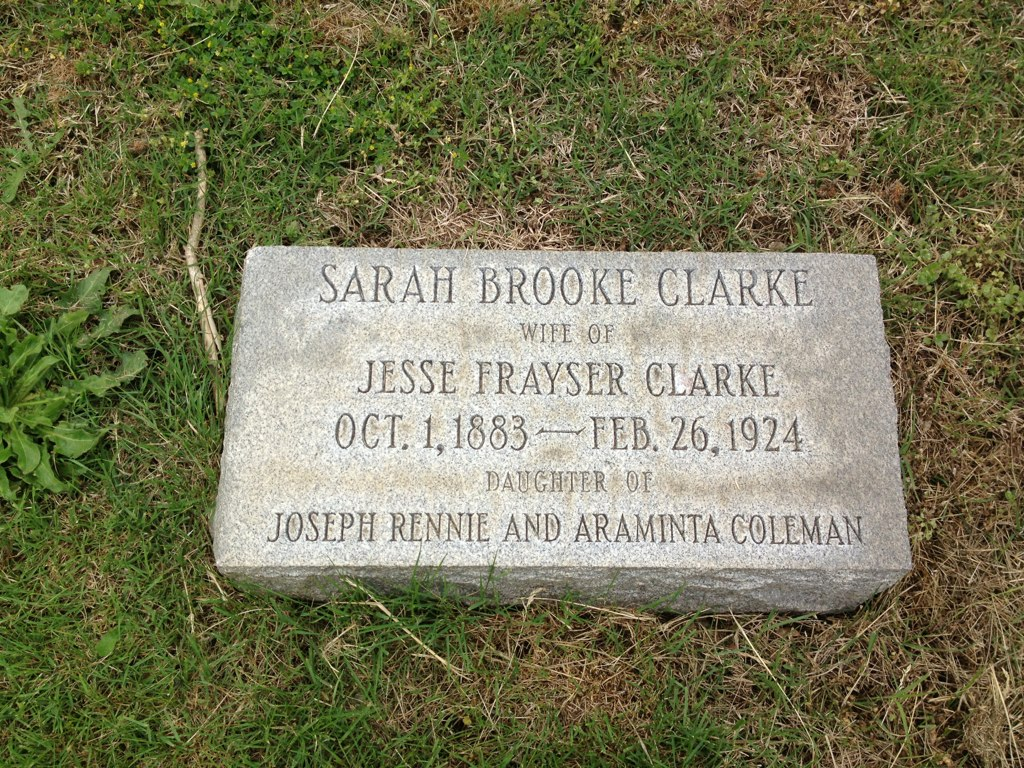flat: (211, 246, 912, 603)
